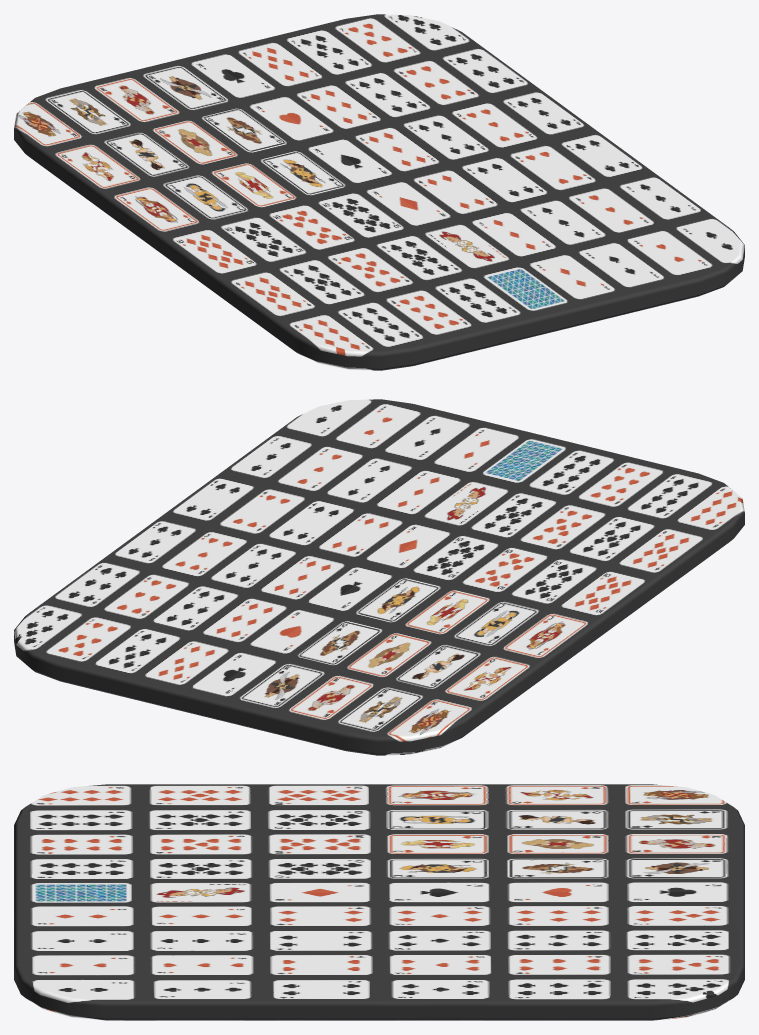
Rendered from SM_Game_BlackGreg_Card.fbx.
3 renders of one model, top to bottom at view 1: azimuth 30°, elevation 25°; view 2: azimuth 150°, elevation 25°; view 3: azimuth 270°, elevation 25°, orthographic. The views are drawn at different scales.
Visible parts, largest first — view 1: SM_Game_BlackGreg_Card; view 2: SM_Game_BlackGreg_Card; view 3: SM_Game_BlackGreg_Card.
Part boxes in pixels (x1,y1,x2,y2): SM_Game_BlackGreg_Card: [14, 14, 744, 370]; SM_Game_BlackGreg_Card: [14, 399, 744, 755]; SM_Game_BlackGreg_Card: [14, 784, 744, 1020].
Bounding box in the file's own units: 19.86 × 0.8425 × 27.89.
Materials: 1 (1 with a texture image).
